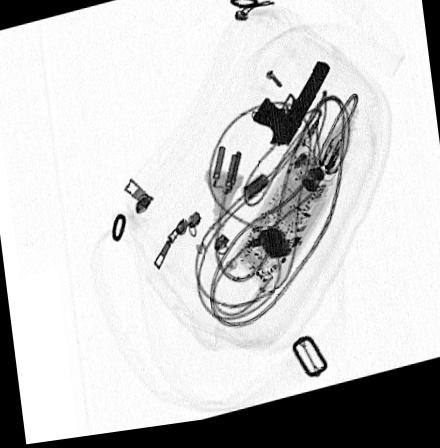Gun: (251, 69, 331, 155)
